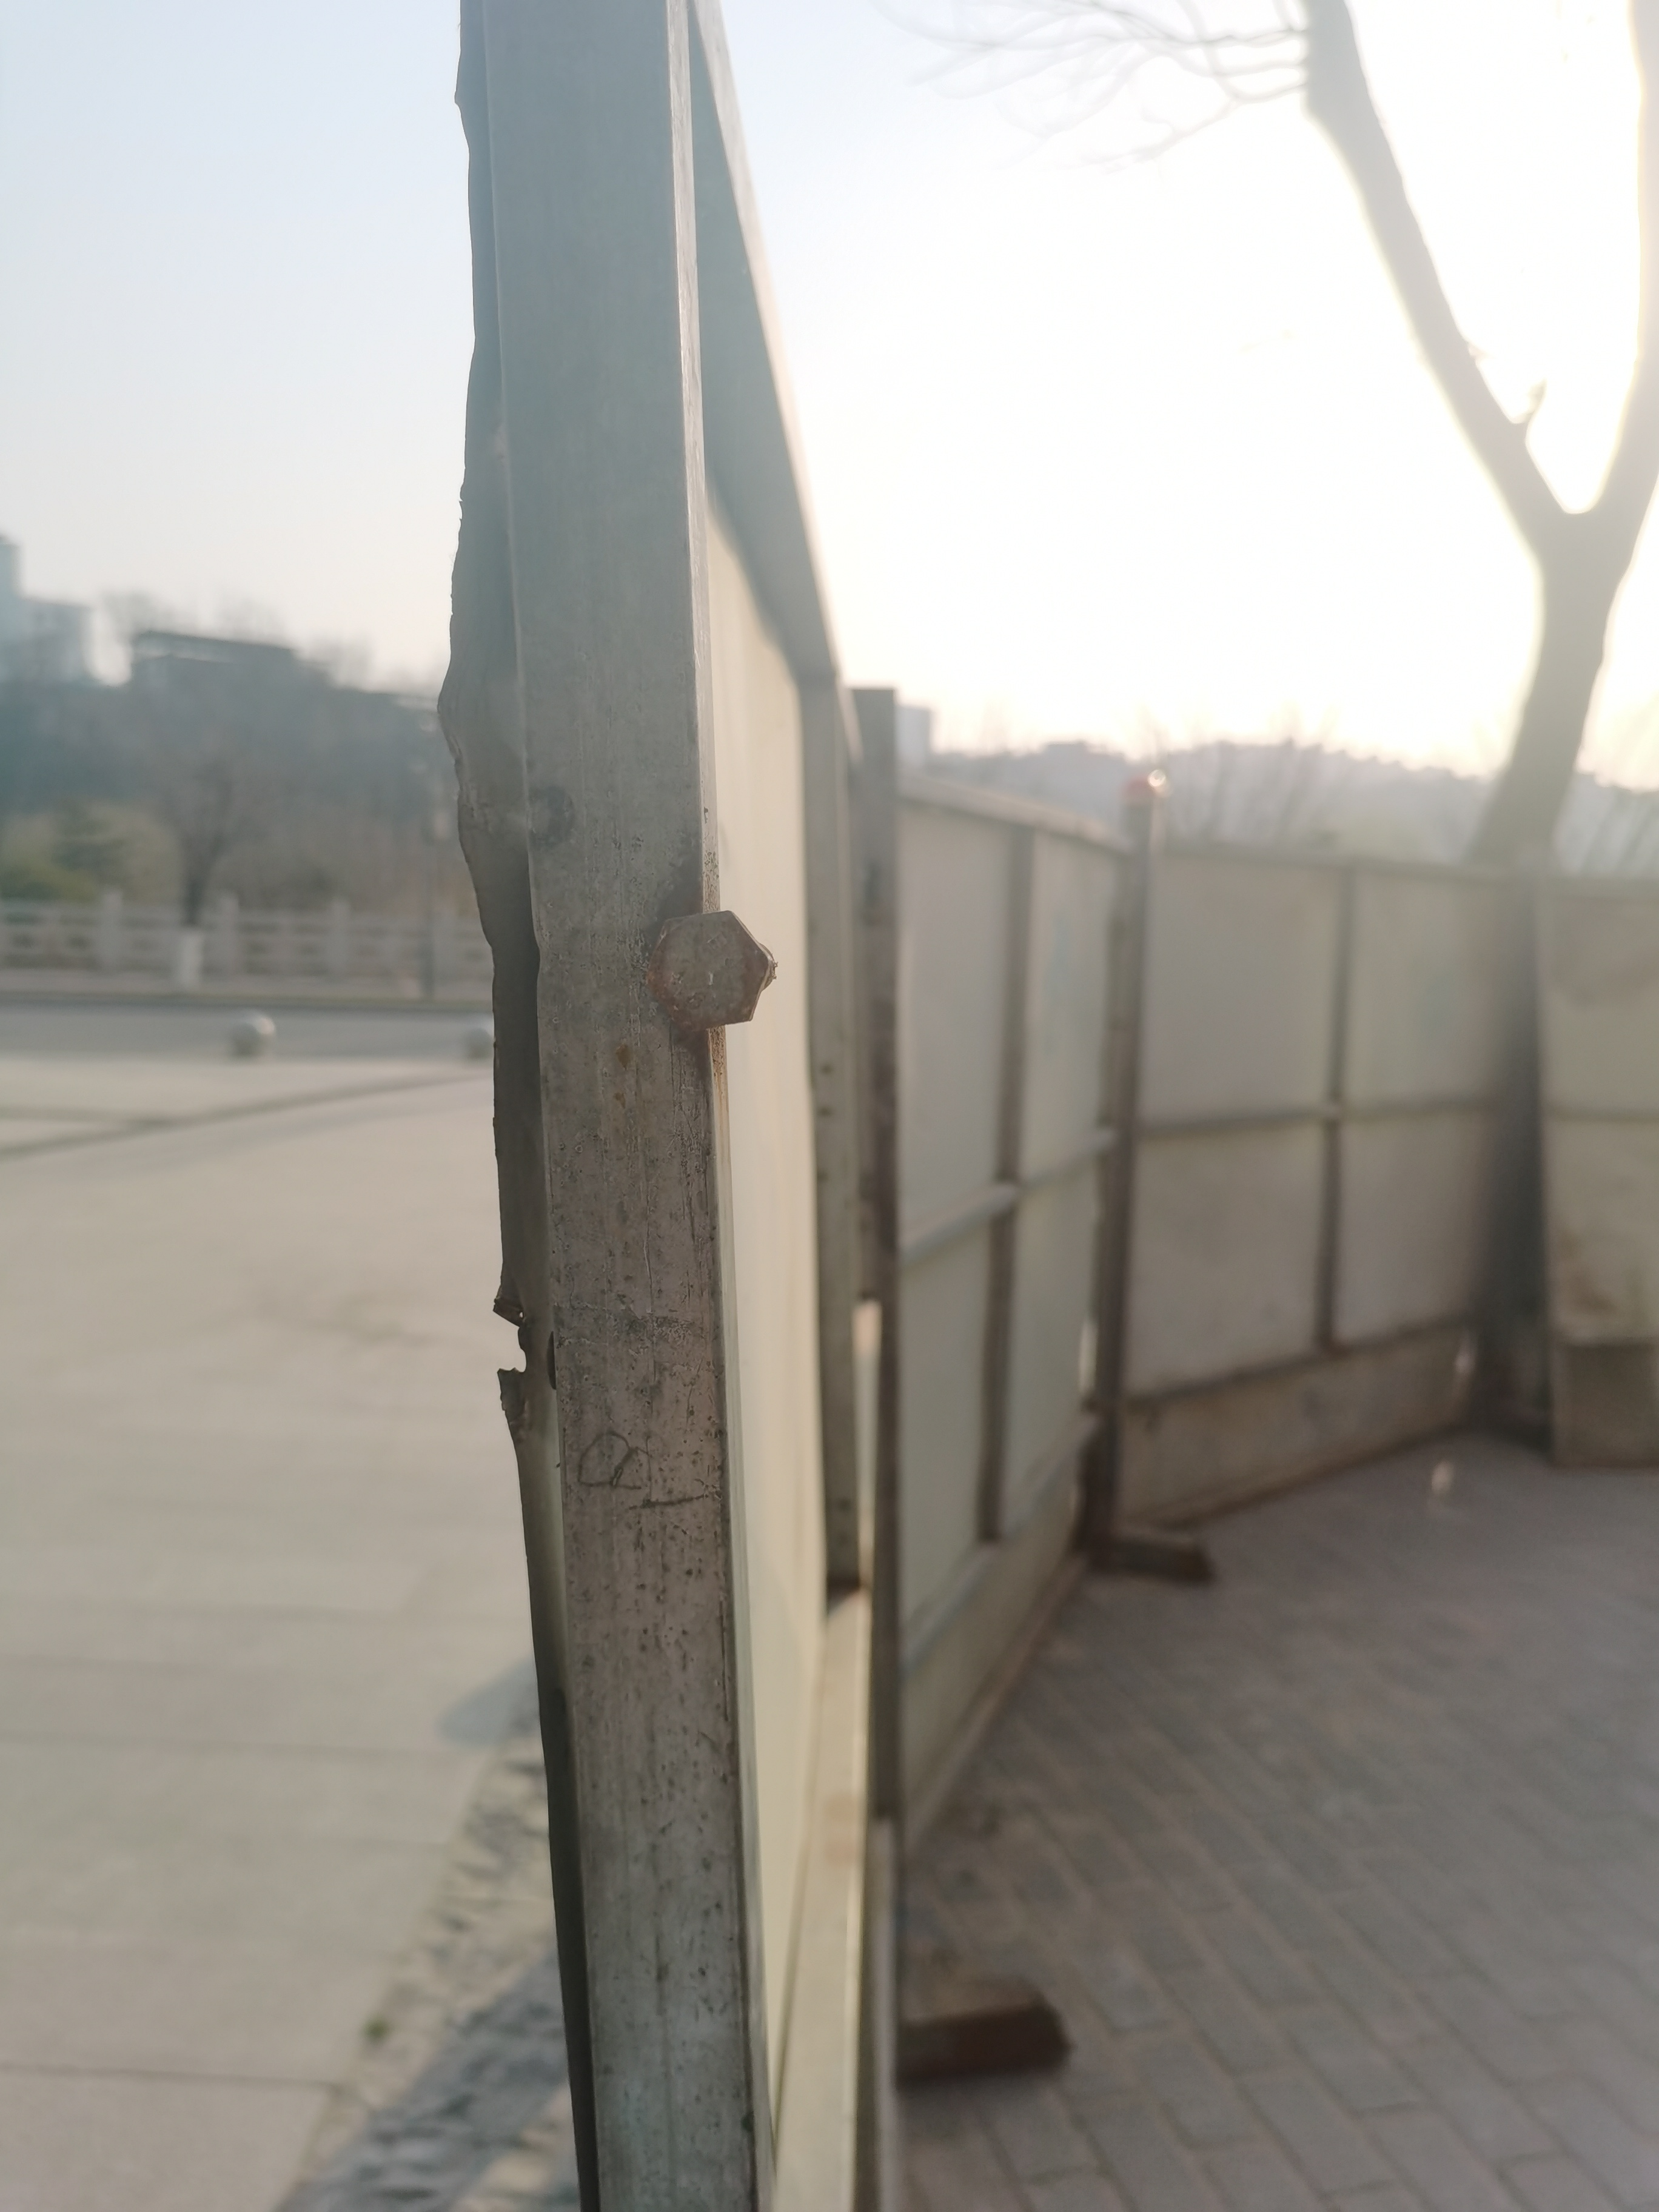bolt_a: (638, 902, 774, 1036)
